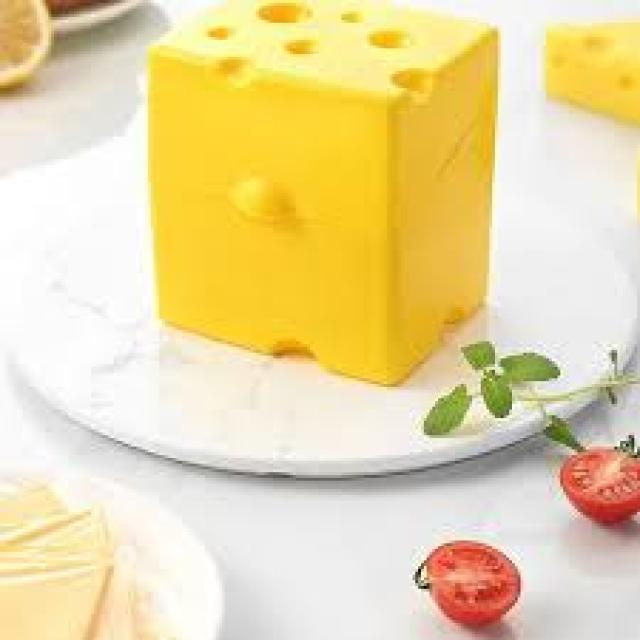Cheese: (148, 0, 509, 383)
